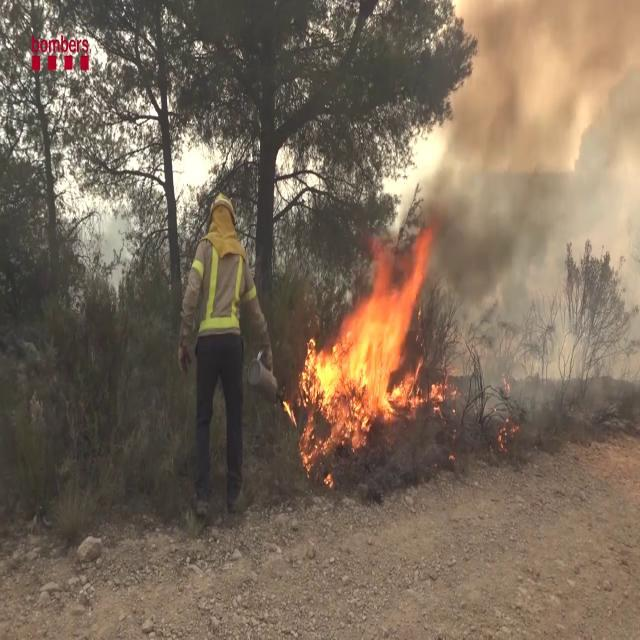Fire: (297, 242, 445, 448)
Smoke: (409, 0, 640, 342)
